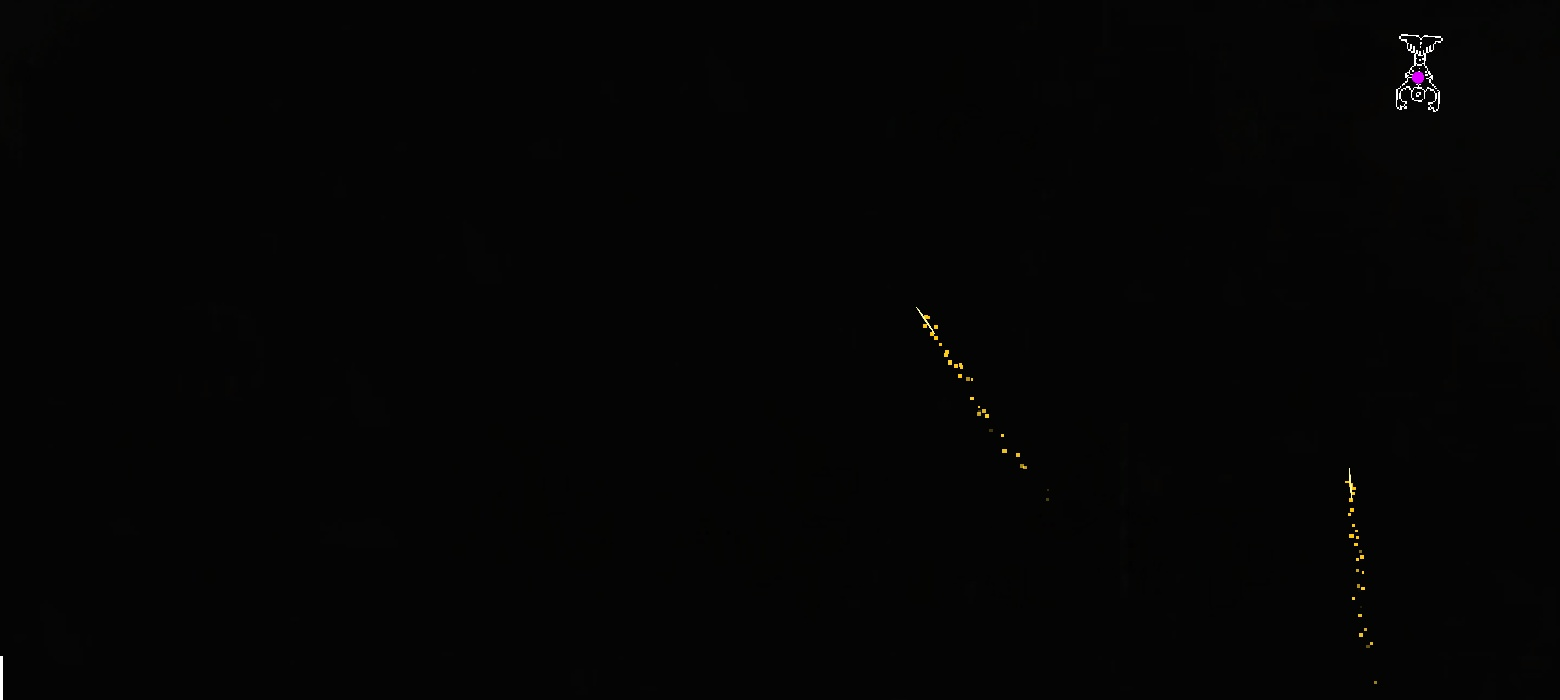enemy: (1396, 34, 1443, 112)
